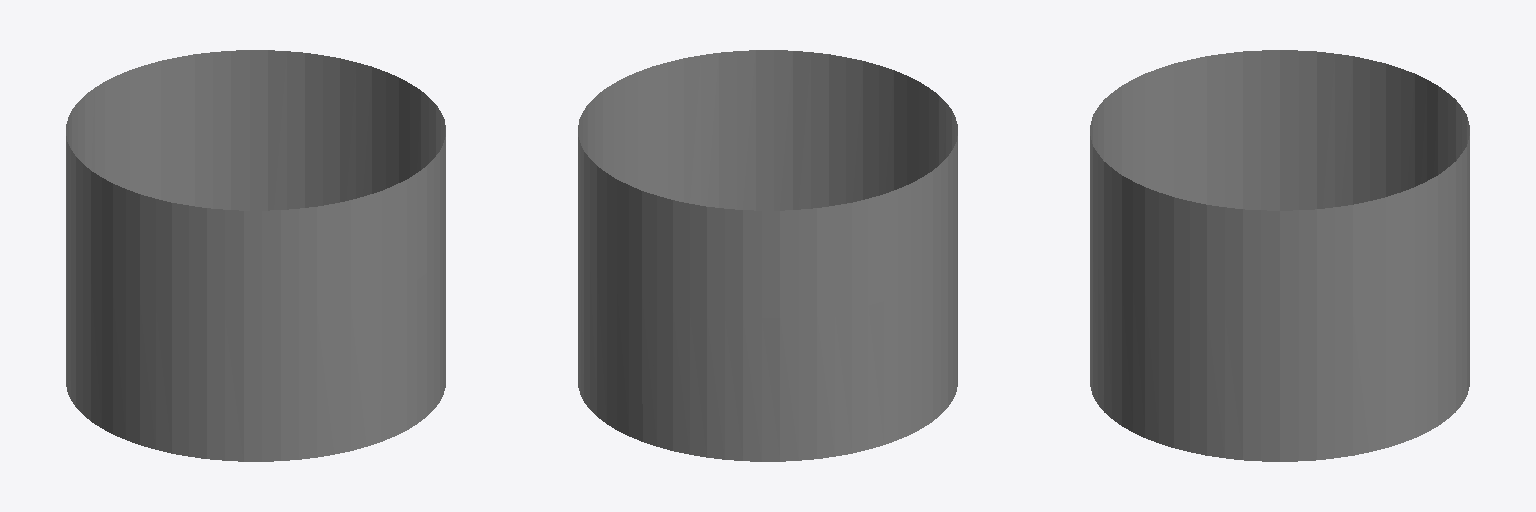
Rendered from potBlend.obj.
The picture shows the model from 3 angles: view 1: azimuth 30°, elevation 25°; view 2: azimuth 150°, elevation 25°; view 3: azimuth 270°, elevation 25°; orthographic projection.
Parts seen in each view (by area): view 1: Cube; view 2: Cube; view 3: Cube.
Boxes of the visible parts, box(x1,y1,x2,y2) form: Cube: box(66, 50, 445, 461); Cube: box(578, 50, 957, 461); Cube: box(1090, 50, 1469, 461).
Size of the model in its own units: 2 by 1.45 by 2.